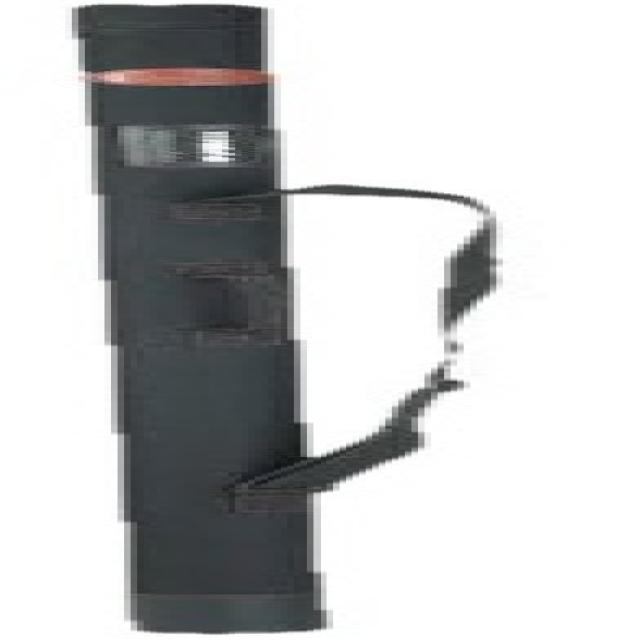bazooka: (36, 5, 403, 638)
